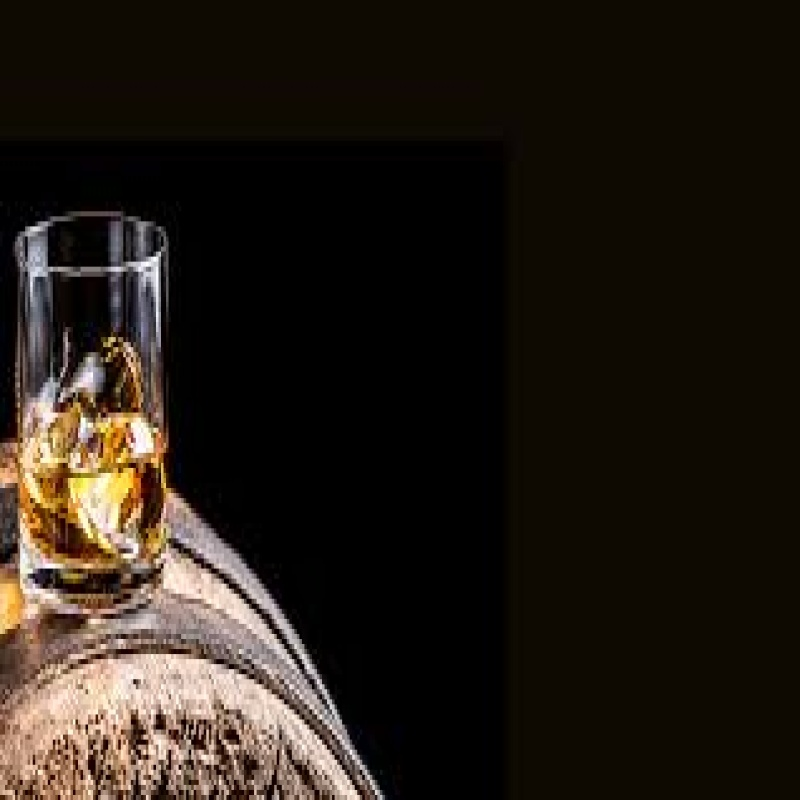whiskey: (20, 207, 187, 624)
